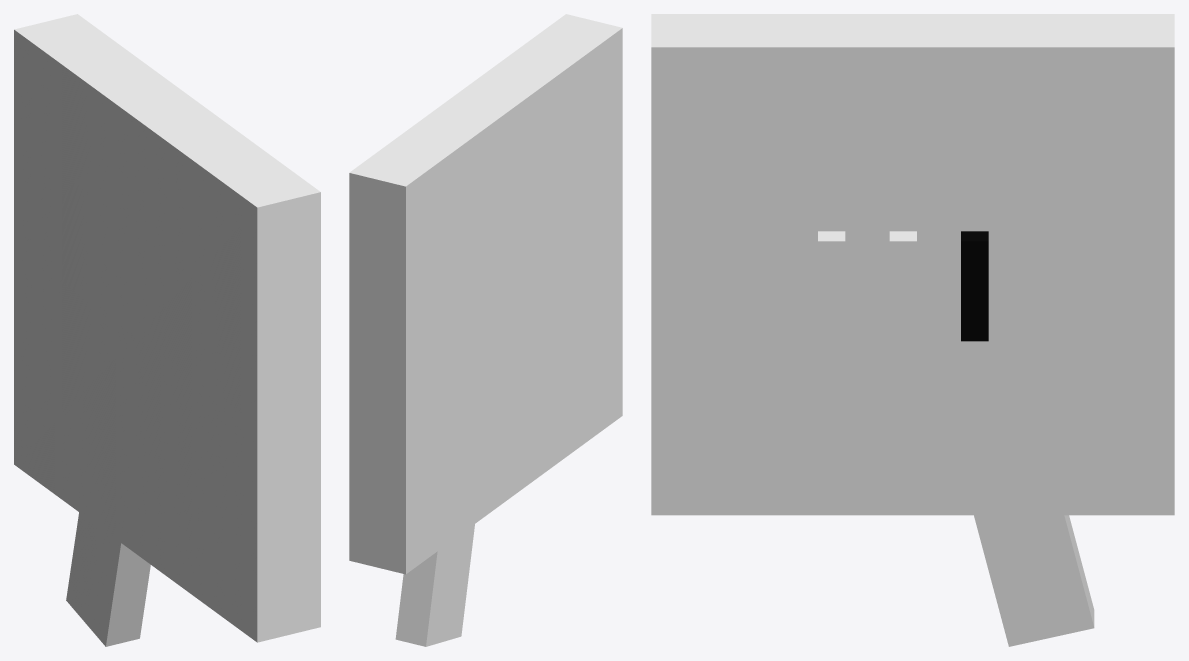
The model's file is msg.gltf.
The picture shows the model from 3 angles, left to right: view 1: azimuth 30°, elevation 25°; view 2: azimuth 150°, elevation 25°; view 3: azimuth 270°, elevation 25°; orthographic projection. The views are drawn at different scales.
Visible parts, largest first — view 1: Cube, Cube.001; view 2: Cube, Cube.001; view 3: Cube, Cube.001, Cube.004, Cube.002, Cube.003.
Boxes of the visible parts, bbox=[...] form: Cube: bbox=[14, 14, 320, 642]; Cube.001: bbox=[66, 512, 150, 646]; Cube: bbox=[349, 14, 622, 574]; Cube.001: bbox=[395, 524, 474, 646]; Cube: bbox=[651, 14, 1174, 515]; Cube.001: bbox=[974, 515, 1094, 646]; Cube.004: bbox=[961, 231, 988, 341]; Cube.002: bbox=[818, 231, 845, 341]; Cube.003: bbox=[889, 231, 916, 341].
Bounding box in the file's own units: 0.4261 × 2.79 × 2.18.
5 materials, 3 textured.
